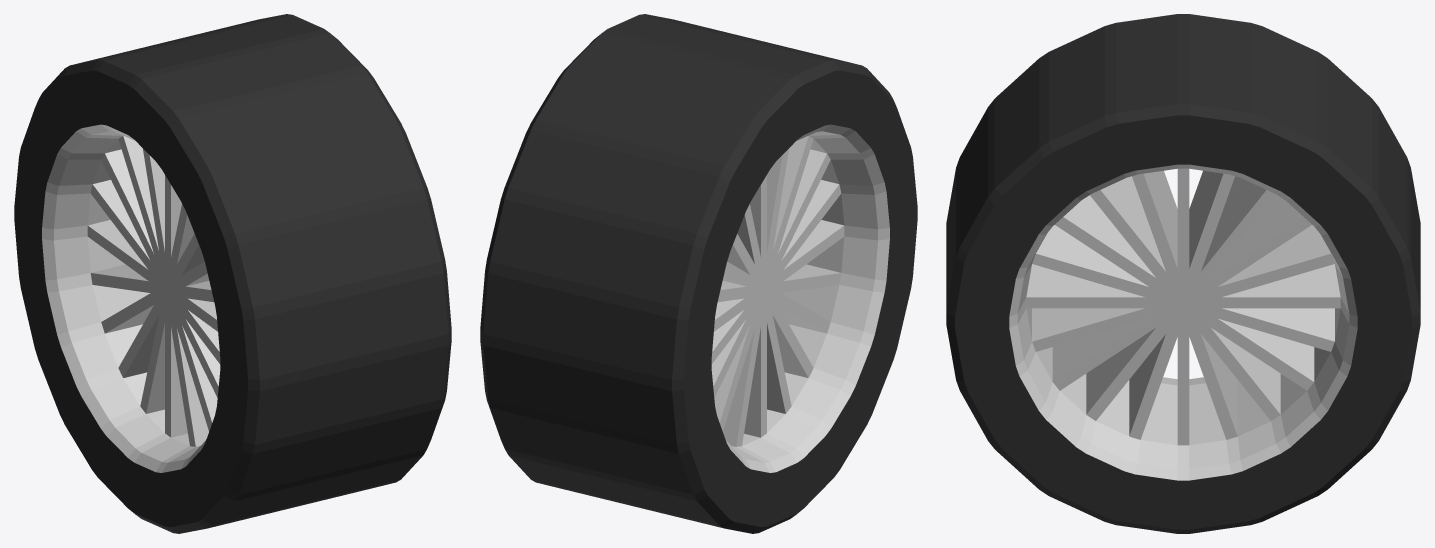
The model's file is car_tire_v2.fbx.
3 views of the same model, side by side, from view 1: azimuth 30°, elevation 25°; view 2: azimuth 150°, elevation 25°; view 3: azimuth 270°, elevation 25° (orthographic). The views are drawn at different scales.
Parts seen in each view (by area): view 1: car_tire; view 2: car_tire; view 3: car_tire.
Boxes of the visible parts, bbox=[...] form: car_tire: bbox=[14, 14, 451, 533]; car_tire: bbox=[480, 14, 917, 533]; car_tire: bbox=[946, 14, 1420, 533].
Size of the model in its own units: 54.36 by 112 by 112.
1 material, 1 textured.
